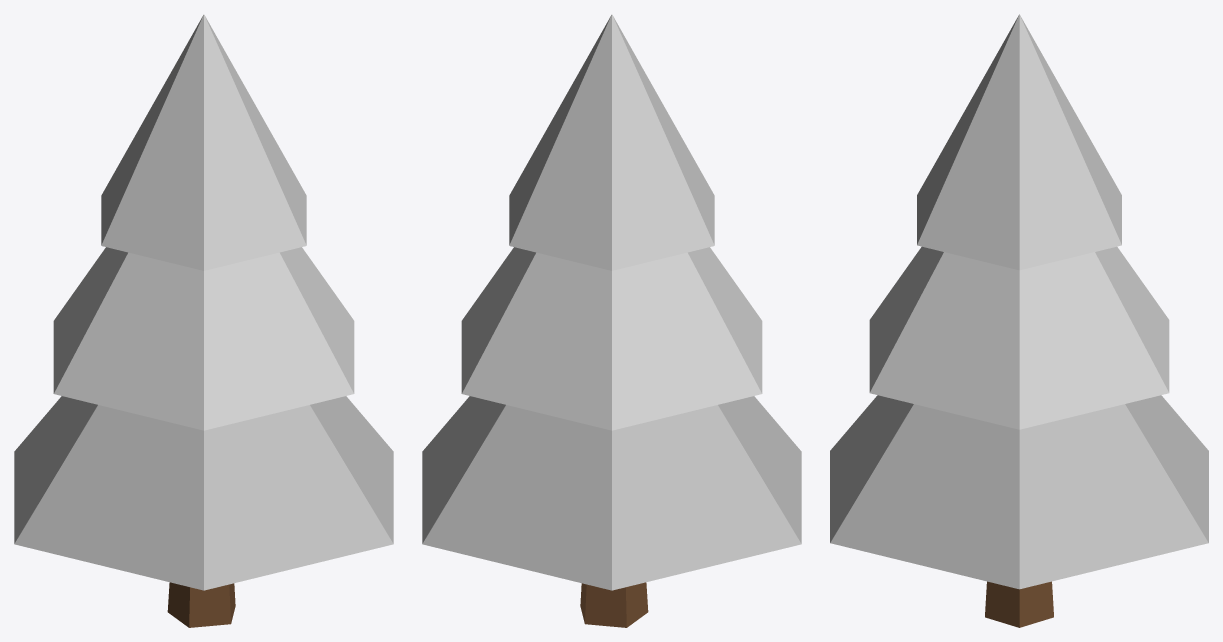
Rendered from prop_tree_pine.glb.
3 views of the same model, side by side, from view 1: azimuth 30°, elevation 25°; view 2: azimuth 150°, elevation 25°; view 3: azimuth 270°, elevation 25° (orthographic).
Parts seen in each view (by area): view 1: canopy, trunk; view 2: canopy, trunk; view 3: canopy, trunk.
Part boxes in pixels (<box>): canopy: <box>14,14,393,590</box>; trunk: <box>167,582,235,627</box>; canopy: <box>422,14,801,590</box>; trunk: <box>580,582,648,627</box>; canopy: <box>830,14,1208,589</box>; trunk: <box>985,581,1053,627</box>.
Bounding box in the file's own units: 0.96 × 1.45 × 0.8314.
